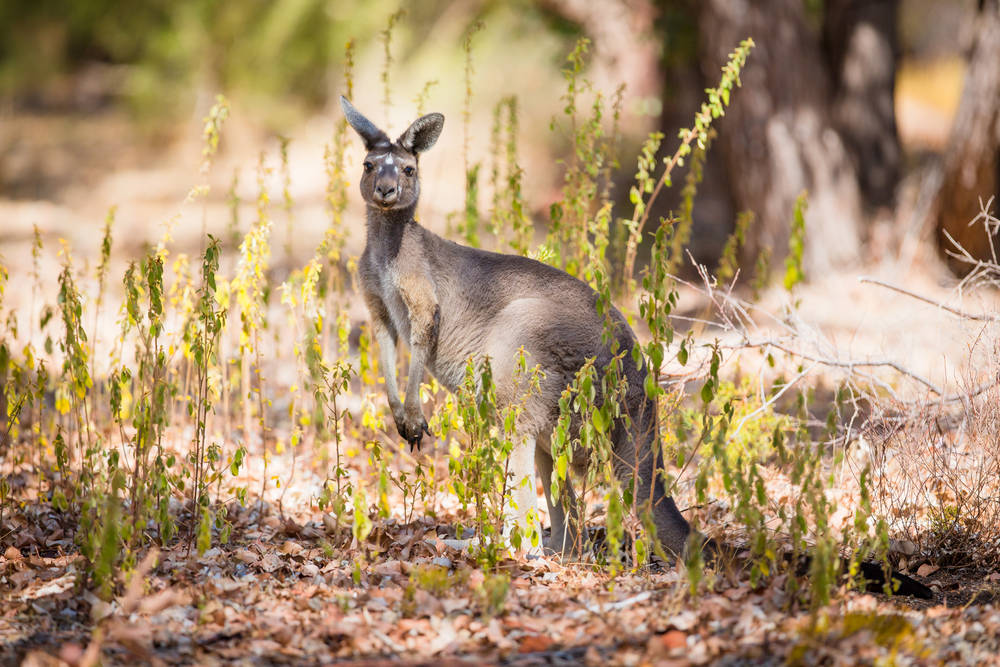kangaroo: (328, 85, 940, 604)
